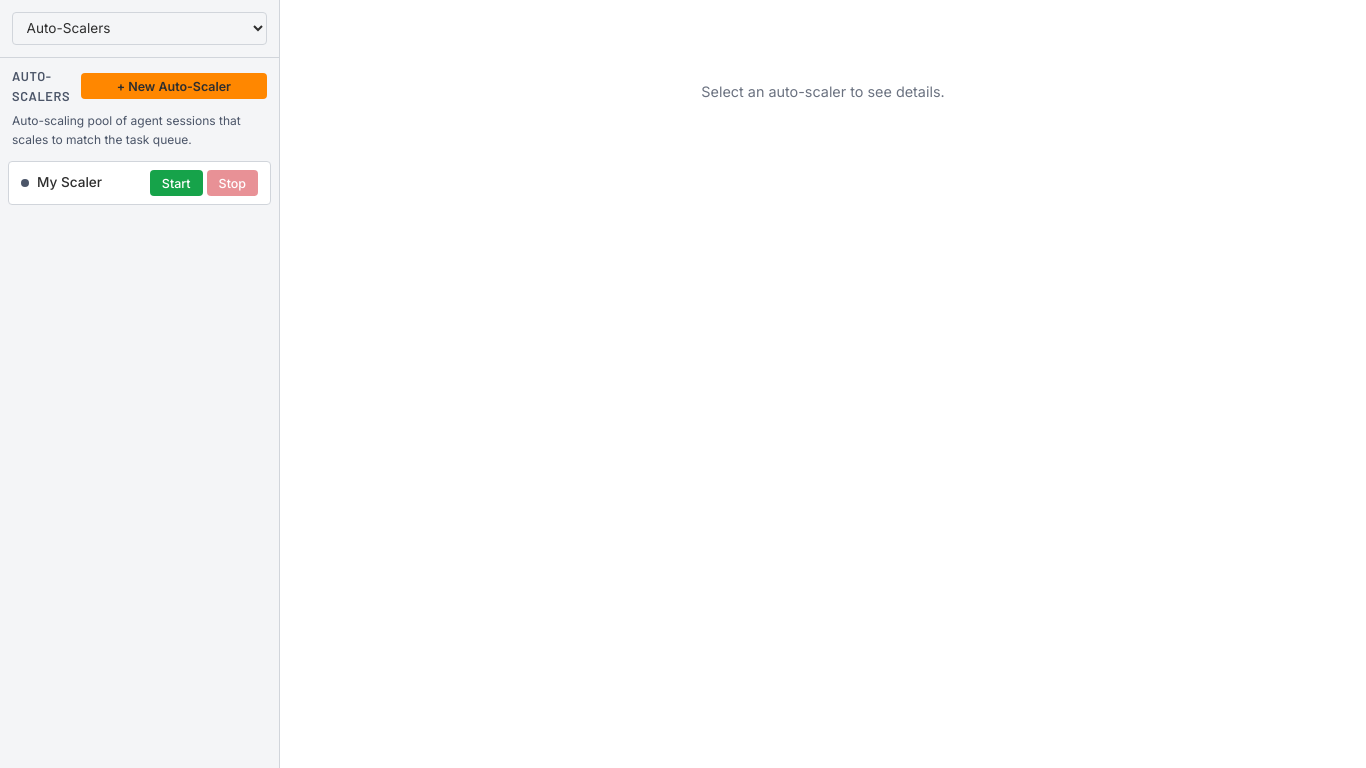
Scenario: AutoScaler selection and detail view › switching to scheduled view restores session detail panel
Note: Select an autoscaler
Click the button "My Scaler Start Stop": (70, 182) [8,161,271,205]
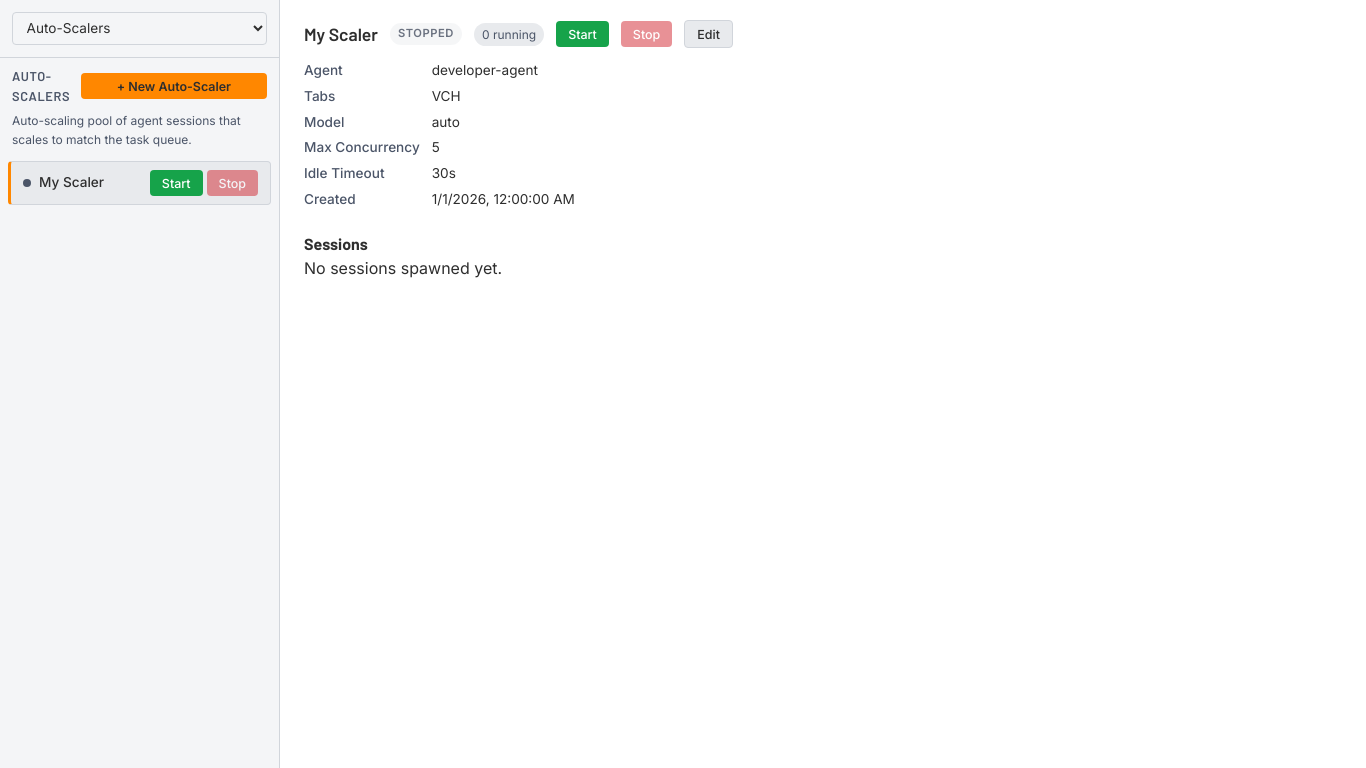
Expected: the element with test id "autoscaler-detail-panel" is shown, [304,20,733,278]
Note: Switch to scheduled view
Select "Scheduled Sessions" in the dropdown named "sidebar view": (140, 28) [12,12,267,45]
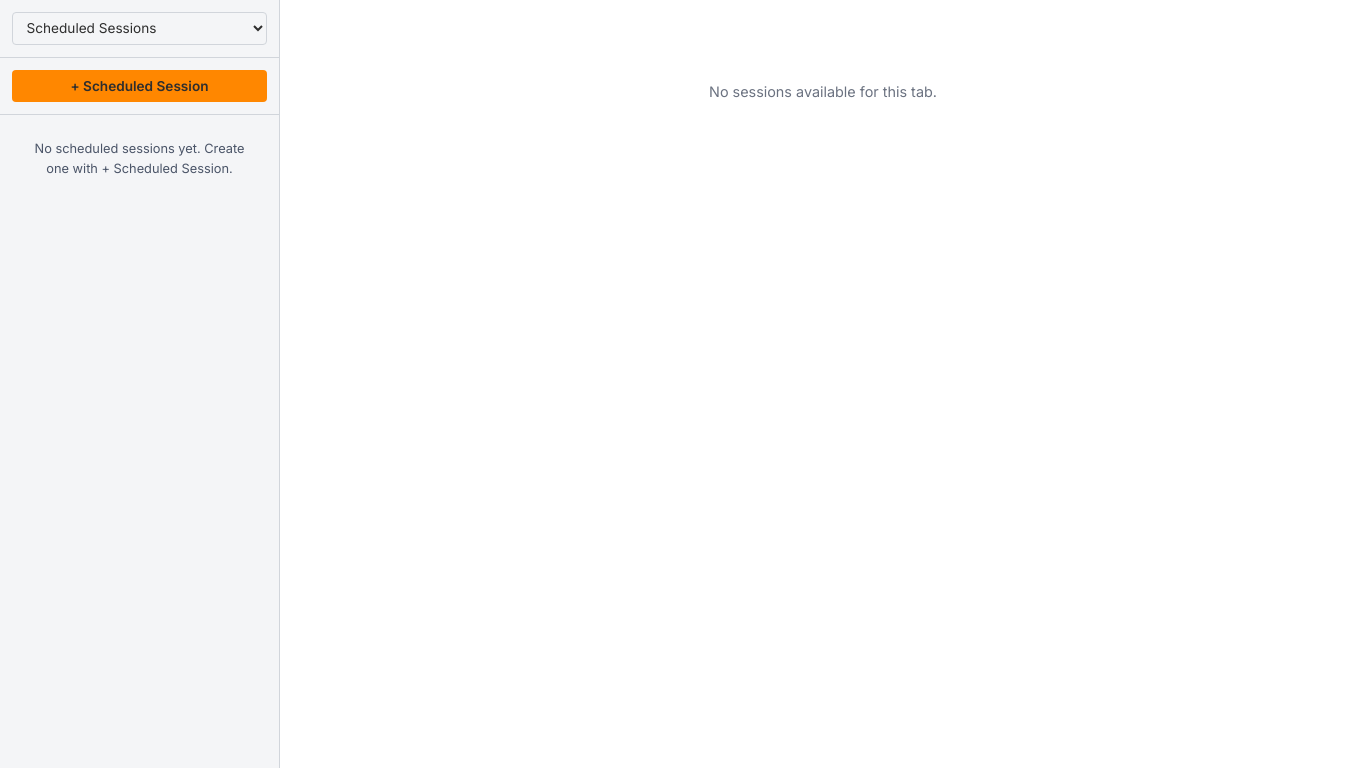
Expected: the element with test id "autoscaler-detail-panel" is gone
